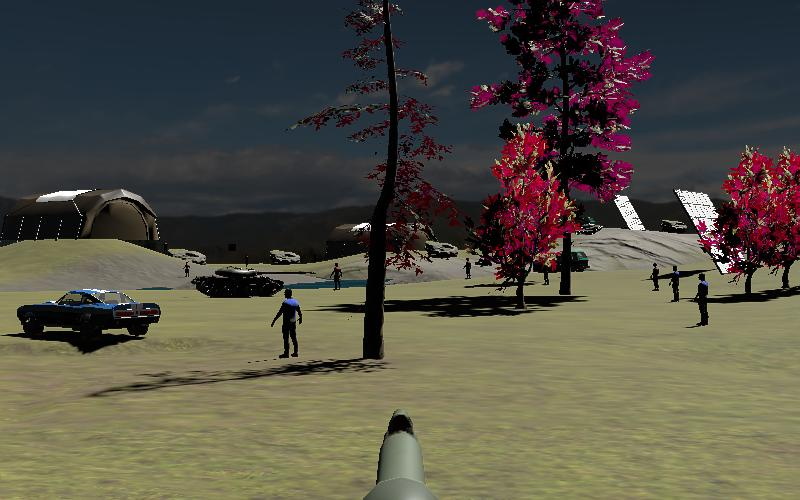Human: (270, 284, 305, 360), (691, 270, 714, 329)
Tank: (189, 263, 317, 300)
car: (12, 284, 164, 345), (557, 248, 592, 274)
